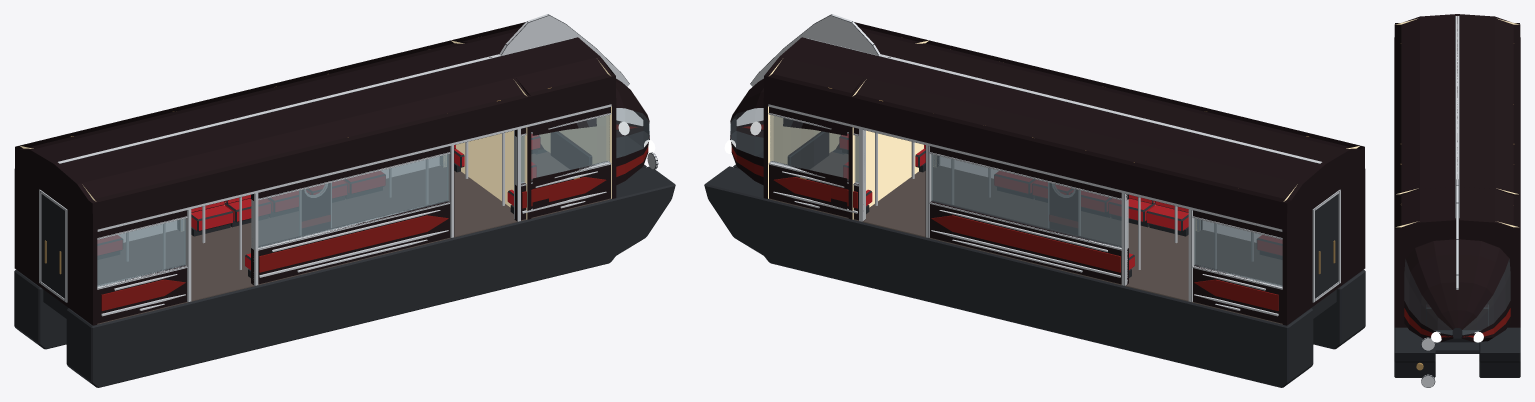
The model's file is monorail_cars.3eb6513f.glb.
3 renders of one model, left to right at view 1: azimuth 30°, elevation 25°; view 2: azimuth 150°, elevation 25°; view 3: azimuth 270°, elevation 25°, orthographic. The views are drawn at different scales.
Visible parts, largest first — view 1: car_mid, car_end, door; view 2: car_mid, car_end, door; view 3: car_end, car_mid.
Boxes of the visible parts, x1,y1,x2,y2 form: car_mid: (14,22,616,387); car_end: (14,14,675,383); door: (299,183,331,235); car_mid: (763,22,1365,387); car_end: (704,14,1365,383); door: (1048,183,1080,235); car_end: (1394,14,1520,387); car_mid: (1394,18,1520,328).
Size of what is drawn, in the model's own units: 14 by 5.1 by 3.2.
